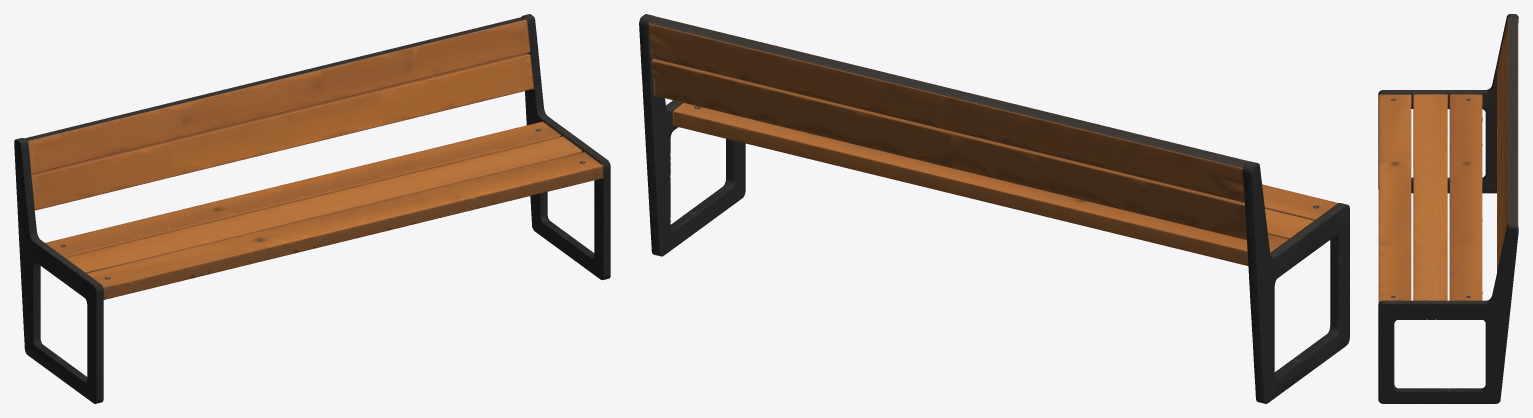
File: benchw.glb
3 views of the same model, side by side, from view 1: azimuth 30°, elevation 25°; view 2: azimuth 150°, elevation 25°; view 3: azimuth 270°, elevation 25° (orthographic). The views are drawn at different scales.
Parts seen in each view (by area): view 1: mesh_node; view 2: mesh_node; view 3: mesh_node.
Part boxes in pixels (<box>): mesh_node: <box>14,14,610,403</box>; mesh_node: <box>639,14,1349,403</box>; mesh_node: <box>1378,14,1518,403</box>.
Bounding box in the file's own units: 1.9 × 0.7338 × 0.5286.
Materials: 1 (1 with a texture image).
